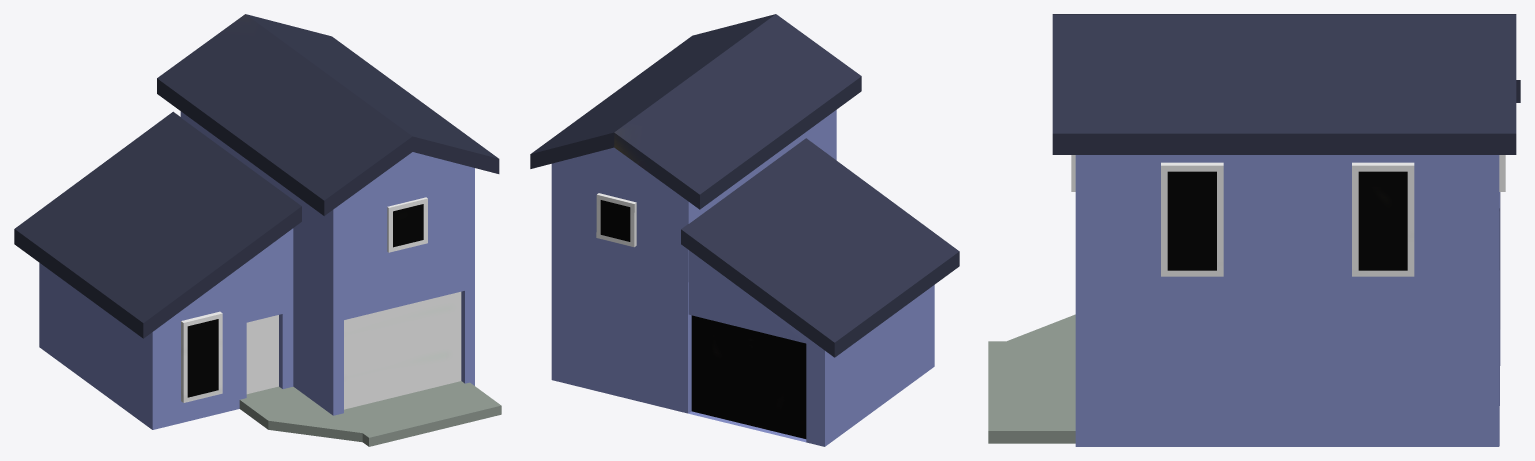
Rendered from house.001.obj.
The picture shows the model from 3 angles, left to right: view 1: azimuth 30°, elevation 25°; view 2: azimuth 150°, elevation 25°; view 3: azimuth 270°, elevation 25°; orthographic projection. The views are drawn at different scales.
Parts seen in each view (by area): view 1: House.001; view 2: House.001; view 3: House.001.
Part boxes in pixels (box(x1,y1,x2,y2)): House.001: box(14, 14, 501, 446); House.001: box(530, 14, 959, 446); House.001: box(988, 14, 1520, 446).
Size of the model in its own units: 1.42 by 1.2 by 1.5.
Materials: 1 (1 with a texture image).
